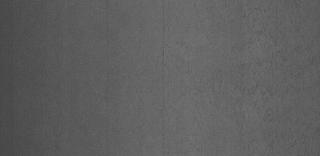silk spot: (178, 7, 310, 146)
